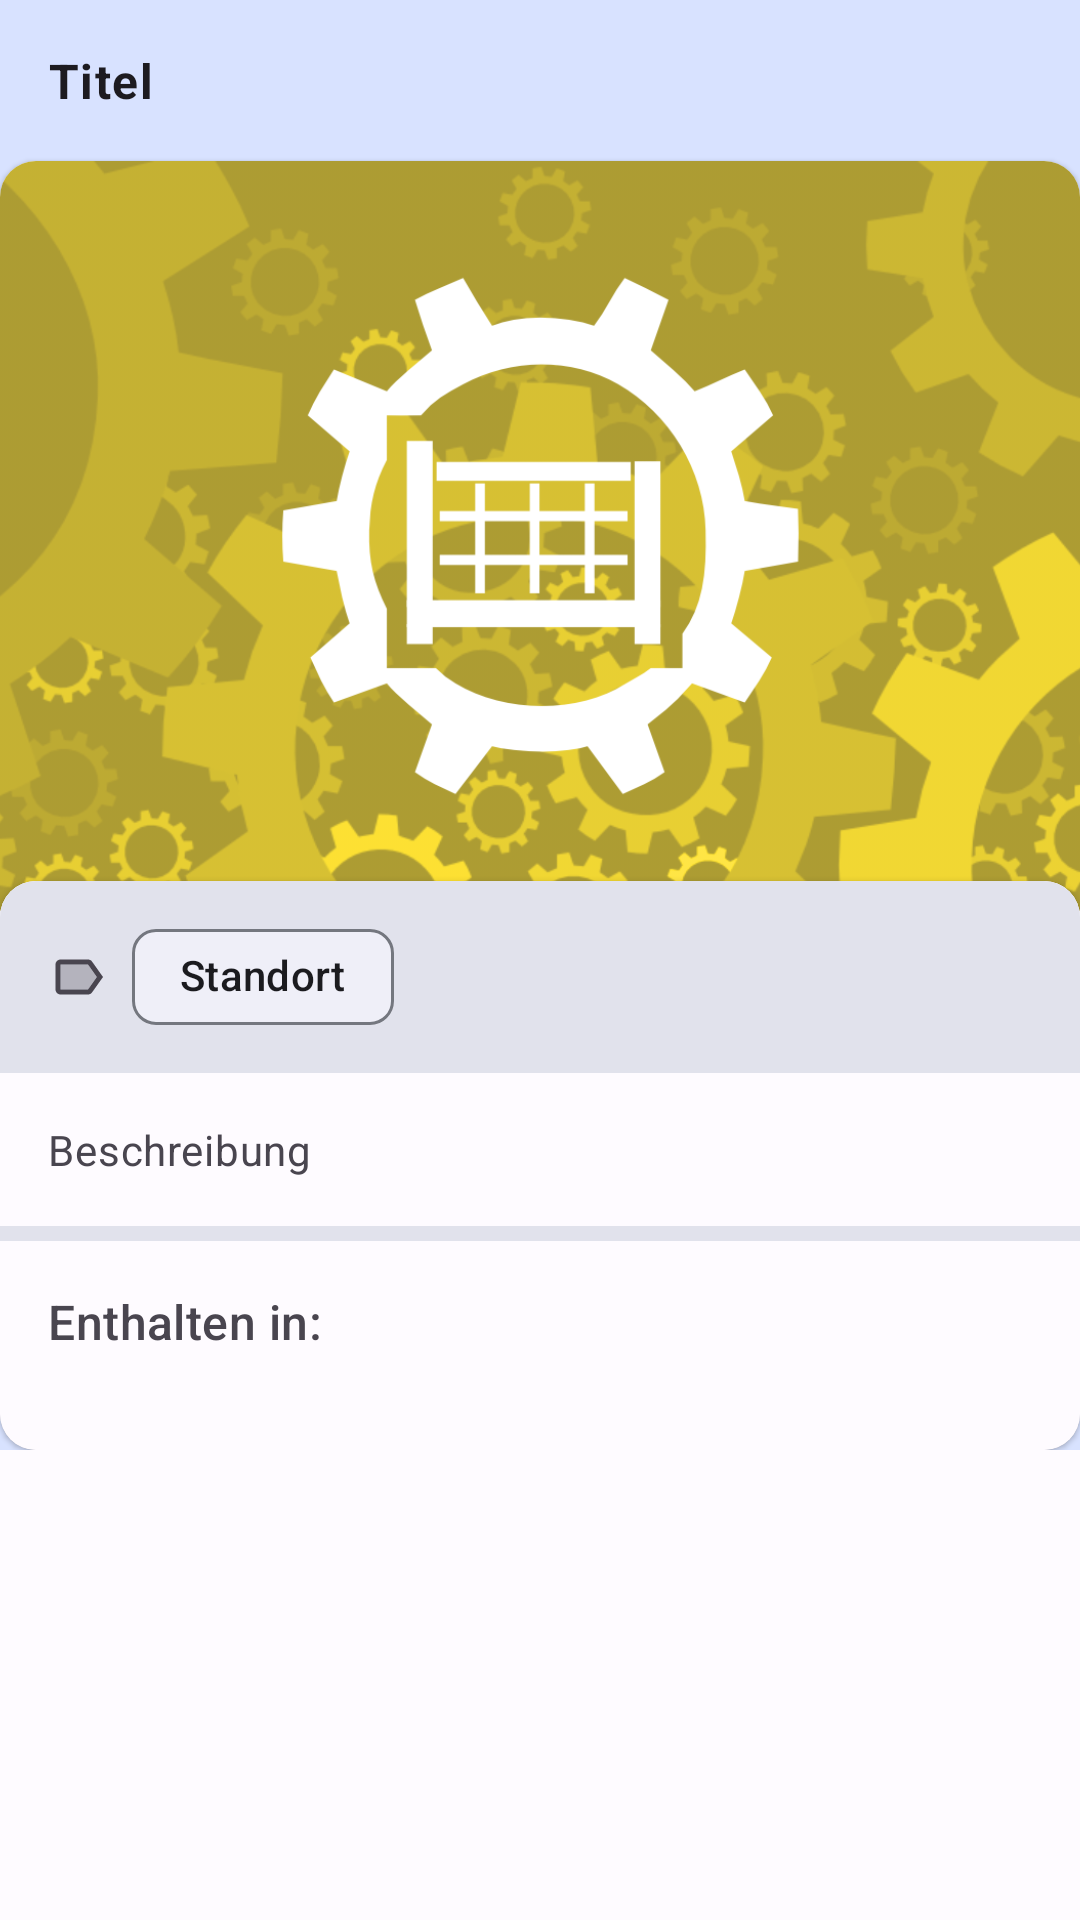

Named icons in this screenshot (1080 × 1920) and their bounding boxes, (x1, y1, x2, y2):
label: (55, 959, 103, 995)
